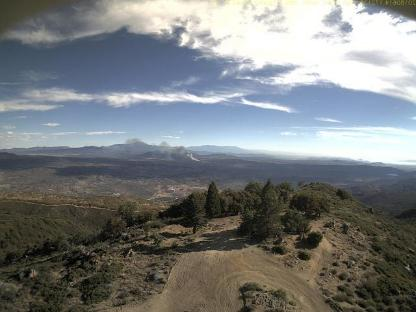smoke: (122, 134, 200, 164)
